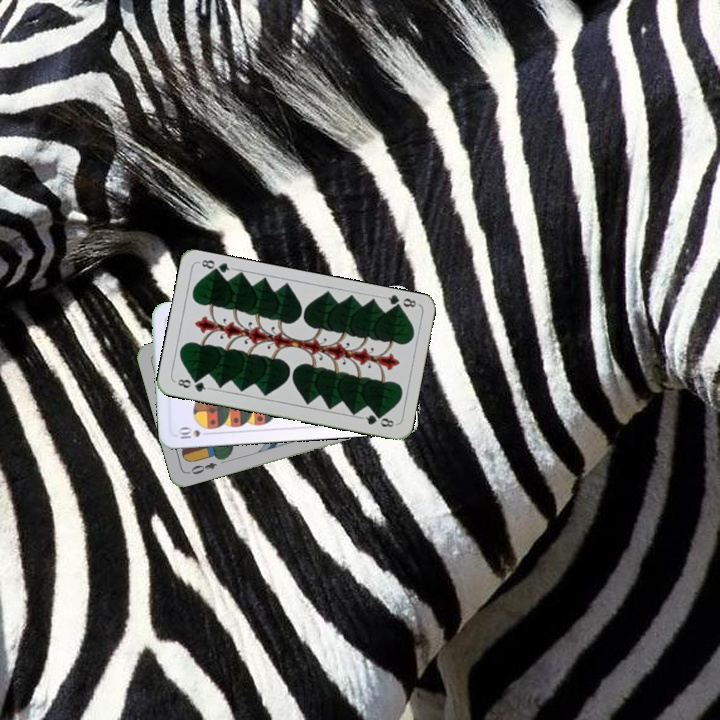EO: (184, 458, 219, 477)
G8: (380, 291, 420, 313), (171, 375, 212, 395)
S10: (174, 424, 213, 442)
